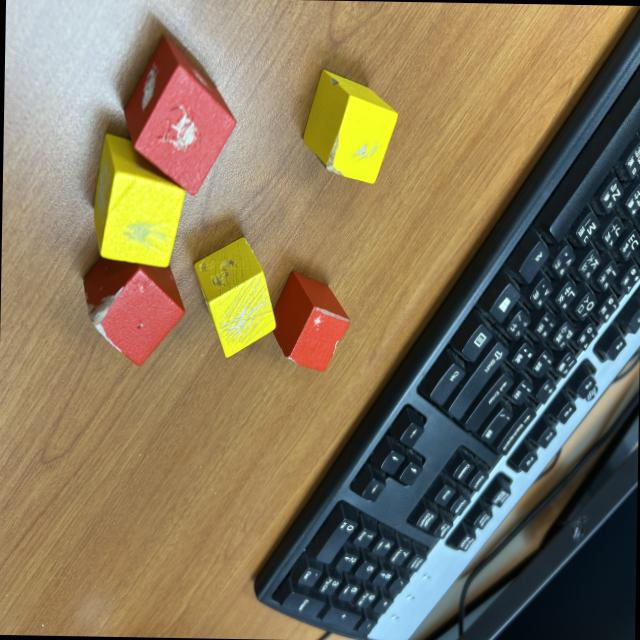broken: (122, 36, 238, 194), (81, 234, 186, 366), (90, 131, 186, 271), (301, 68, 399, 185), (192, 236, 278, 360), (270, 267, 351, 371)
